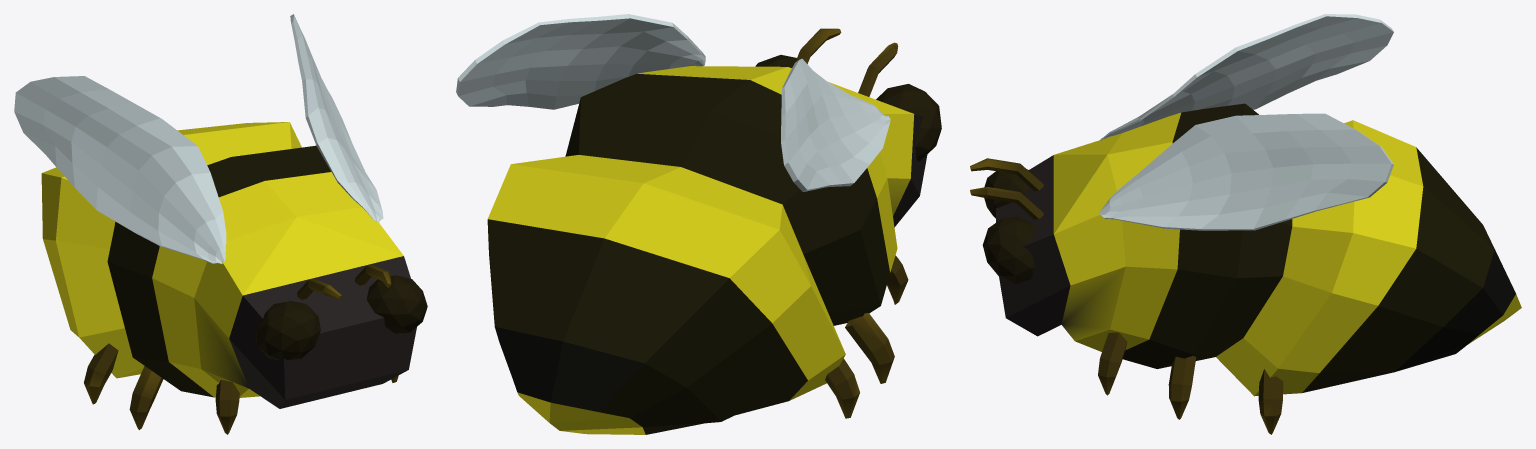
The model's file is AbelhaOperaria.fbx.
3 views of the same model, side by side, from view 1: azimuth 30°, elevation 25°; view 2: azimuth 150°, elevation 25°; view 3: azimuth 270°, elevation 25° (orthographic). The views are drawn at different scales.
Visible parts, largest first — view 1: AbelhaOperária; view 2: AbelhaOperária; view 3: AbelhaOperária.
Boxes of the visible parts, x1,y1,x2,y2 form: AbelhaOperária: (14, 14, 427, 434); AbelhaOperária: (456, 14, 941, 434); AbelhaOperária: (970, 14, 1521, 434).
Size of the model in its own units: 83.54 by 83.61 by 136.
